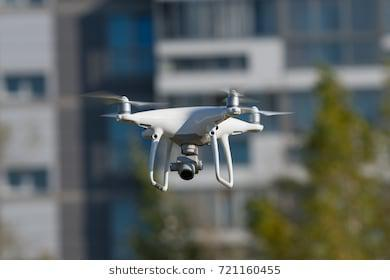drone: (85, 90, 295, 193)
